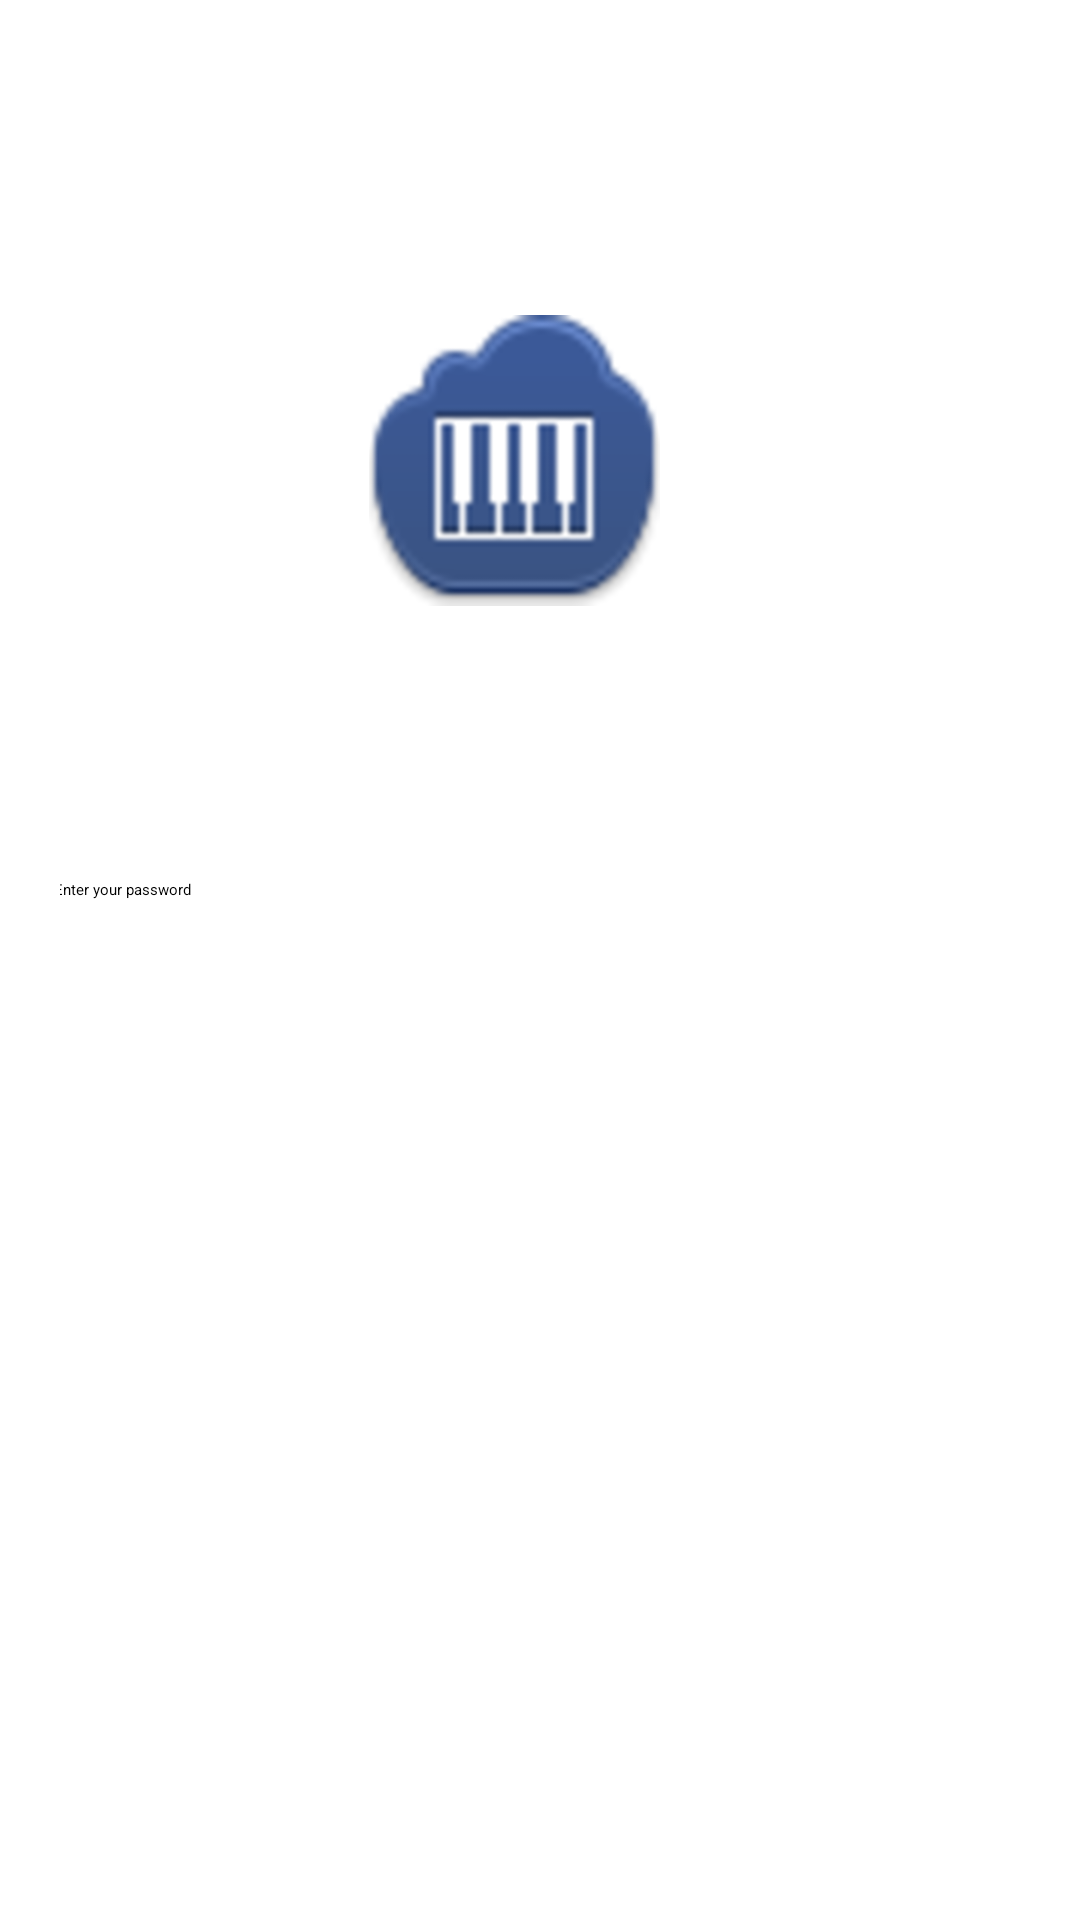

Point at icon controls on the screen. Image size 1080x1920, points as [x,y].
piano: [514,459]
